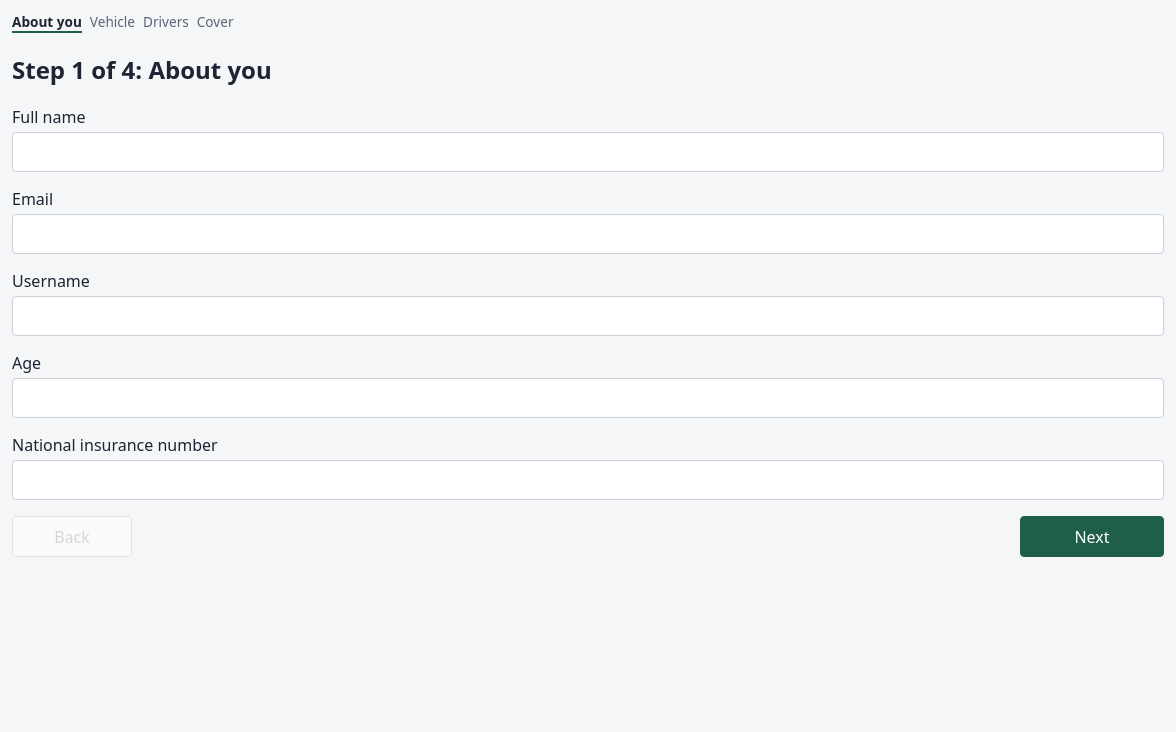
Test: background username check › announces the result once it arrives
The width and height of the screenshot is (1176, 732).
Step 1. Type "abc" into the field labelled "Username" → (588, 316), box [12,296,1164,336]
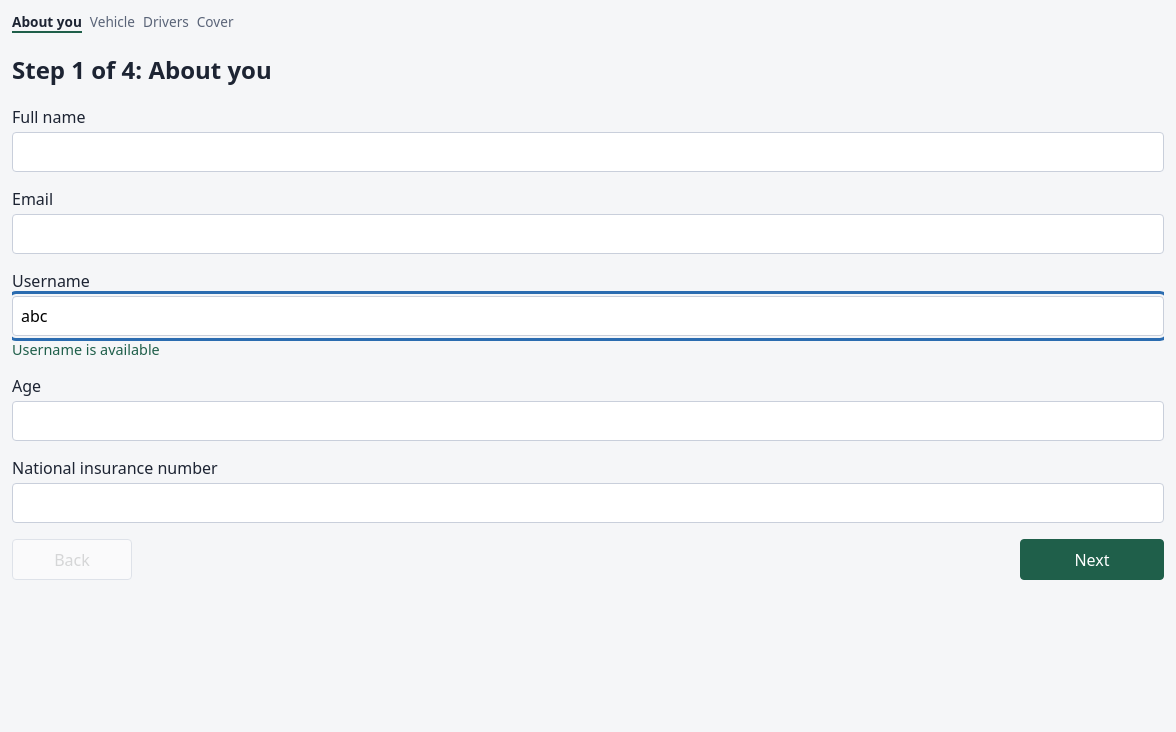
Check: the text "Username is available" is shown, box [12,340,160,359]
